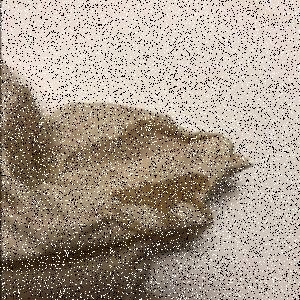Trash: (2, 59, 255, 300)
